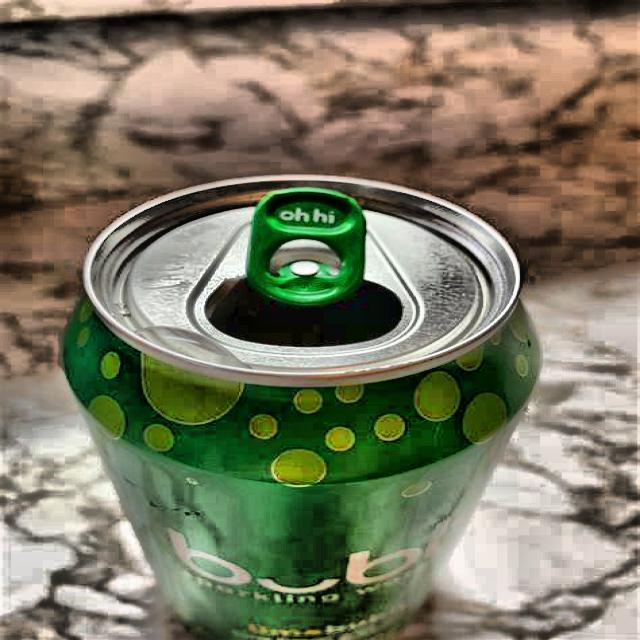Cans: (33, 152, 585, 640)
